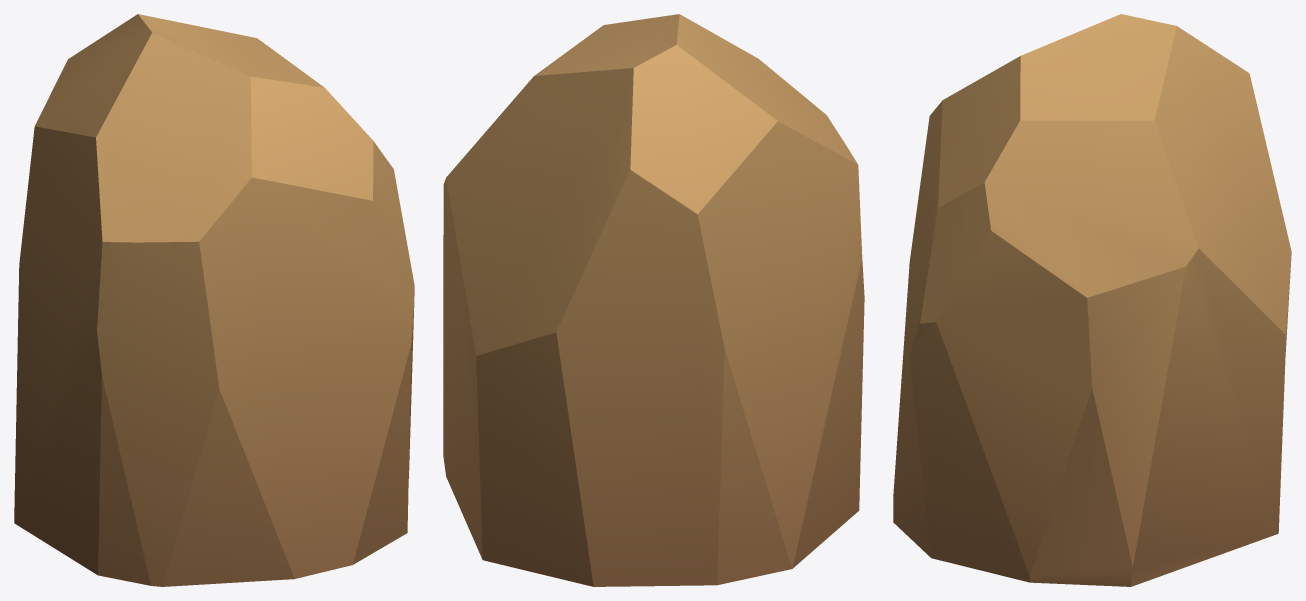
Rendered from desert stone small 6.fbx.
The picture shows the model from 3 angles, left to right: view 1: azimuth 30°, elevation 25°; view 2: azimuth 150°, elevation 25°; view 3: azimuth 270°, elevation 25°; orthographic projection. The views are drawn at different scales.
Parts seen in each view (by area): view 1: desert stone small 6; view 2: desert stone small 6; view 3: desert stone small 6.
Boxes of the visible parts, x1,y1,x2,y2 form: desert stone small 6: [14, 14, 414, 586]; desert stone small 6: [443, 14, 864, 586]; desert stone small 6: [893, 14, 1291, 586].
Size of the model in its own units: 110 by 142 by 110.
